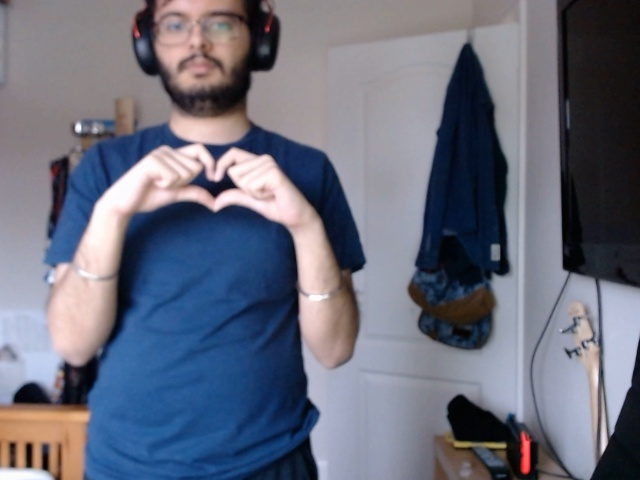Heart: (159, 138, 269, 225)
